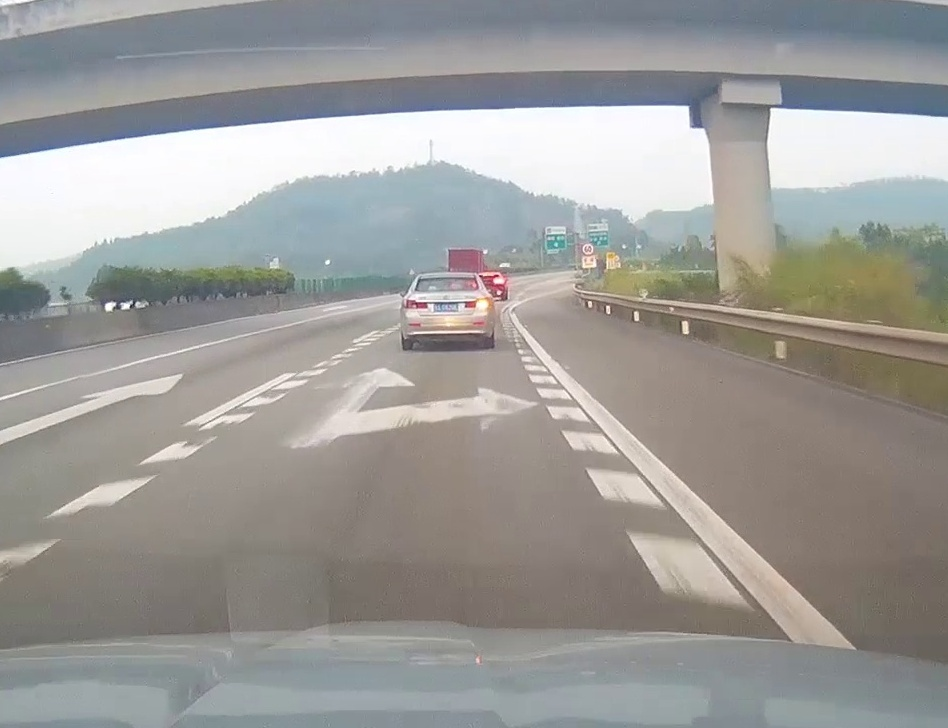L_light: (402, 299, 428, 309)
R_light: (464, 297, 492, 309)
T_light: (438, 289, 455, 291)
day-right: (400, 272, 496, 350)
